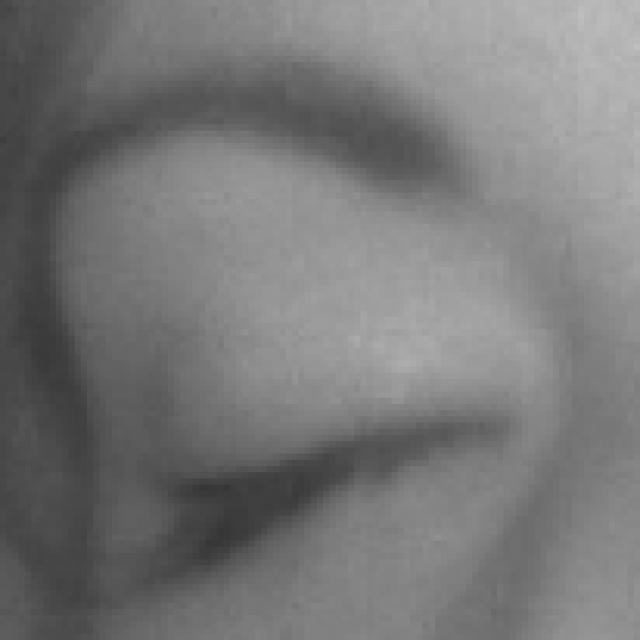close: (42, 68, 569, 640)
